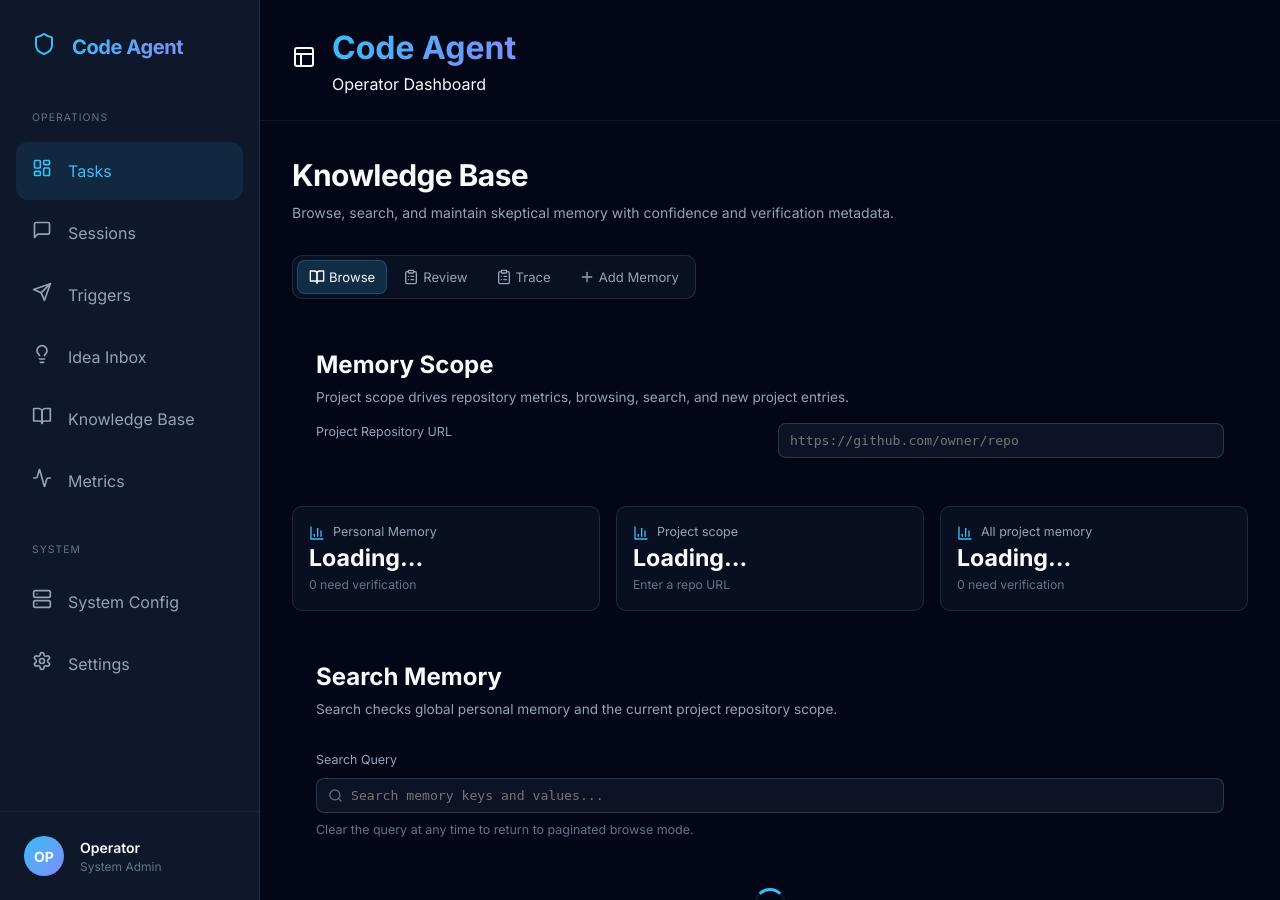
Scenario: KnowledgeBasePage › renders trace loading states while observation and decision queries are pending
Click the tab "Trace" at (523,277), box [484,260,563,294]
(page scrolled)
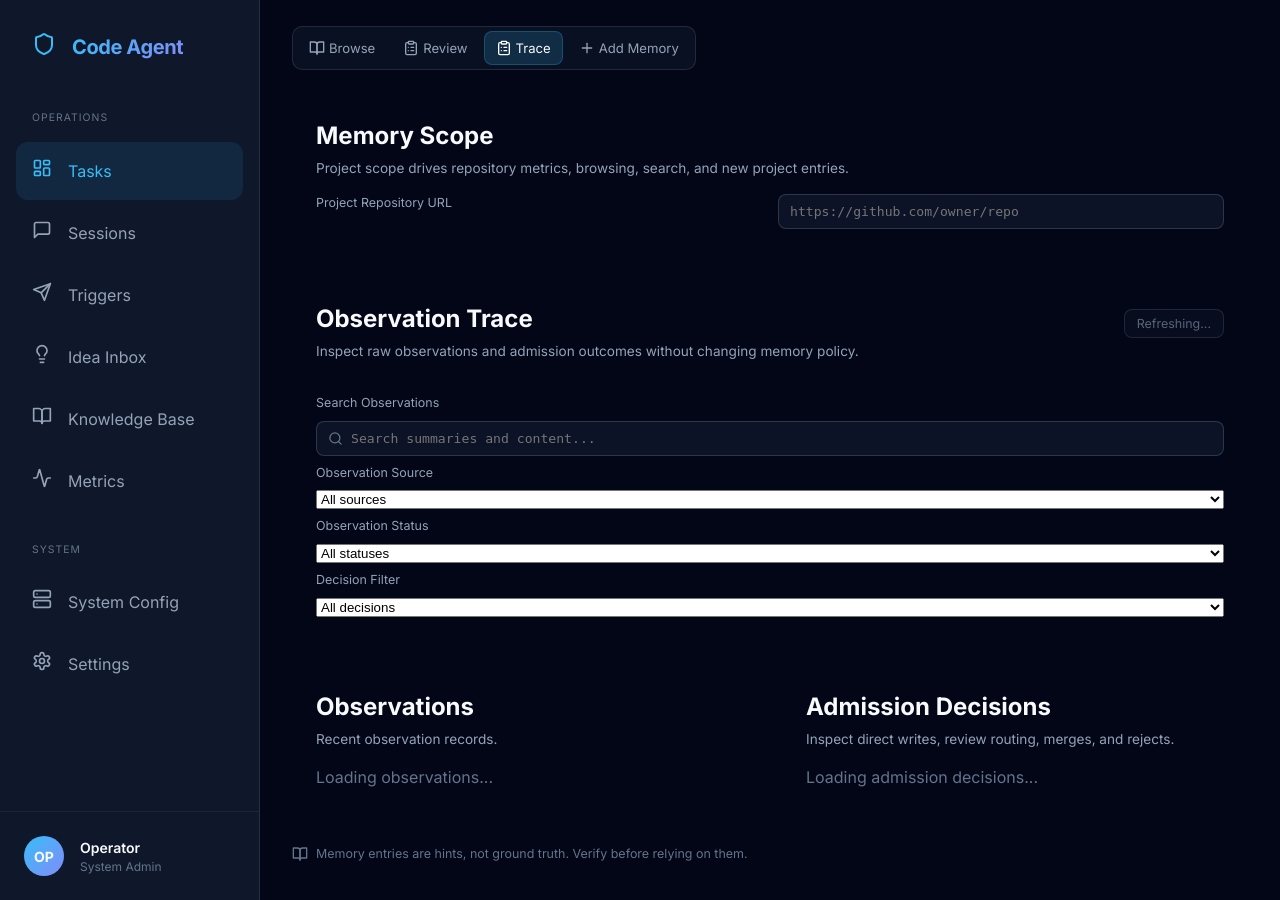
Result: the button "Refreshing..." is disabled at [1124,309,1224,338]
Result: the text "Loading observations..." is shown at [316,767,493,787]
Result: the text "Loading admission decisions..." is shown at [806,767,1038,787]
